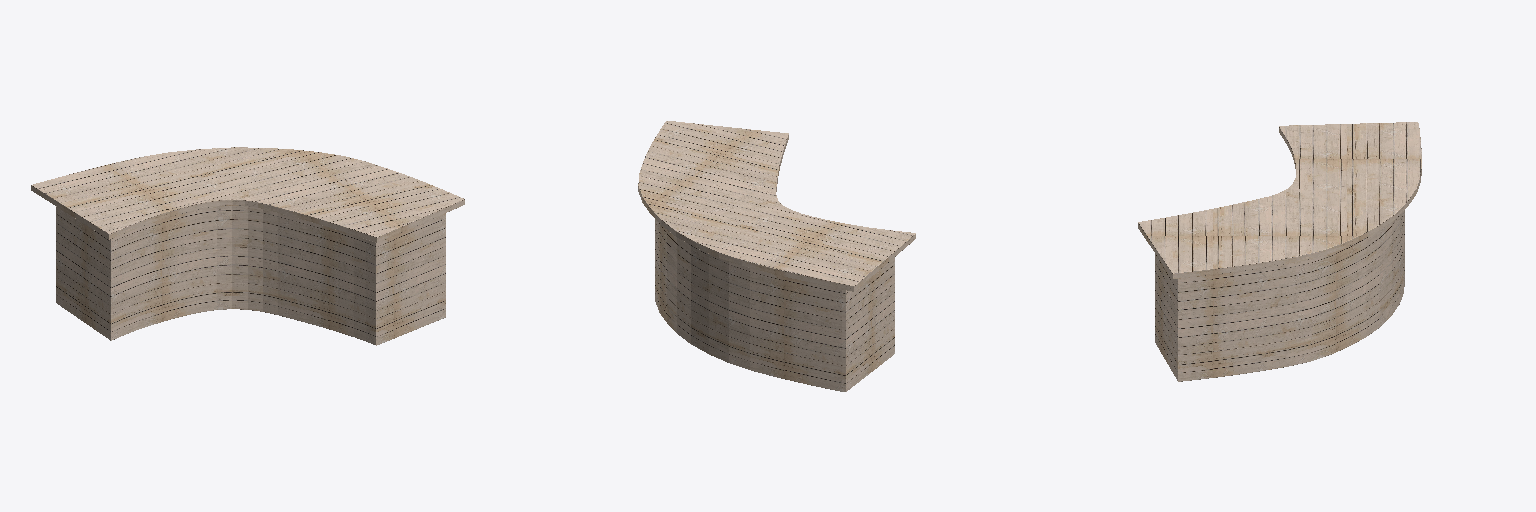
The picture shows the model from 3 angles: view 1: azimuth 30°, elevation 25°; view 2: azimuth 150°, elevation 25°; view 3: azimuth 270°, elevation 25°; orthographic projection.
Visible parts, largest first — view 1: Reception_table; view 2: Reception_table; view 3: Reception_table.
Boxes of the visible parts, box(x1,y1,x2,y2) form: Reception_table: box(31, 147, 464, 345); Reception_table: box(638, 121, 915, 391); Reception_table: box(1138, 122, 1421, 381).
Bounding box in the file's own units: 100 × 36 × 79.46.
1 materials, 1 textured.